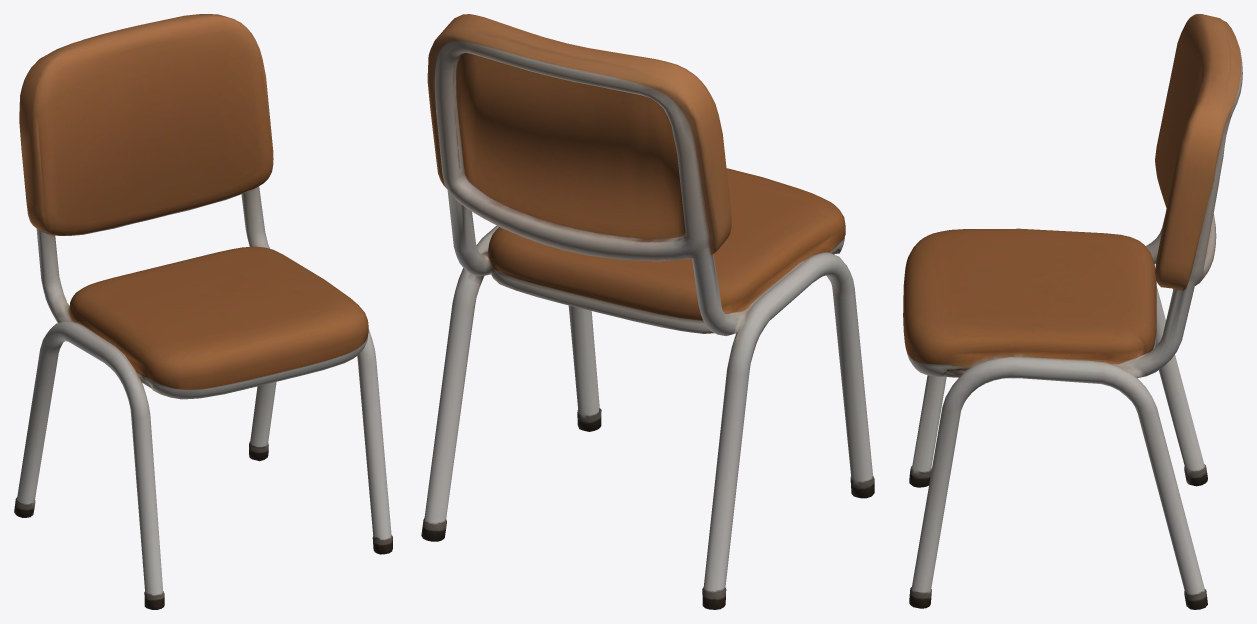
The model's file is break_room_chair_14a39c7b_v1.glb.
3 renders of one model, left to right at view 1: azimuth 30°, elevation 25°; view 2: azimuth 150°, elevation 25°; view 3: azimuth 270°, elevation 25°, orthographic. The views are drawn at different scales.
Parts seen in each view (by area): view 1: material; view 2: material; view 3: material.
Part boxes in pixels (left/top/right/bottom): material: left=14, top=14, right=392, bottom=609; material: left=421, top=14, right=874, bottom=609; material: left=903, top=14, right=1242, bottom=609.
Size of the model in its own units: 1.11 by 1.9 by 1.2.
1 material, 1 textured.
